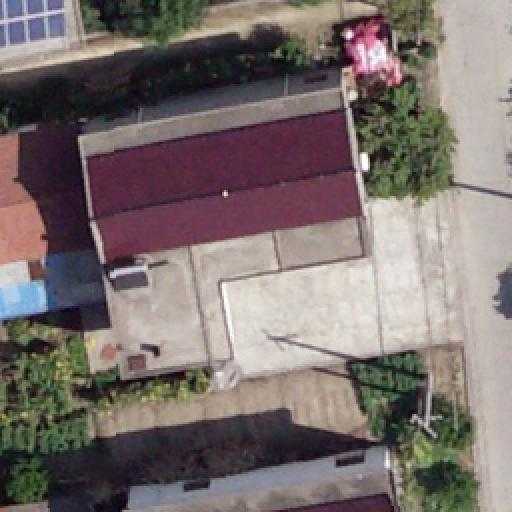solar-panel: (0, 0, 94, 49)
